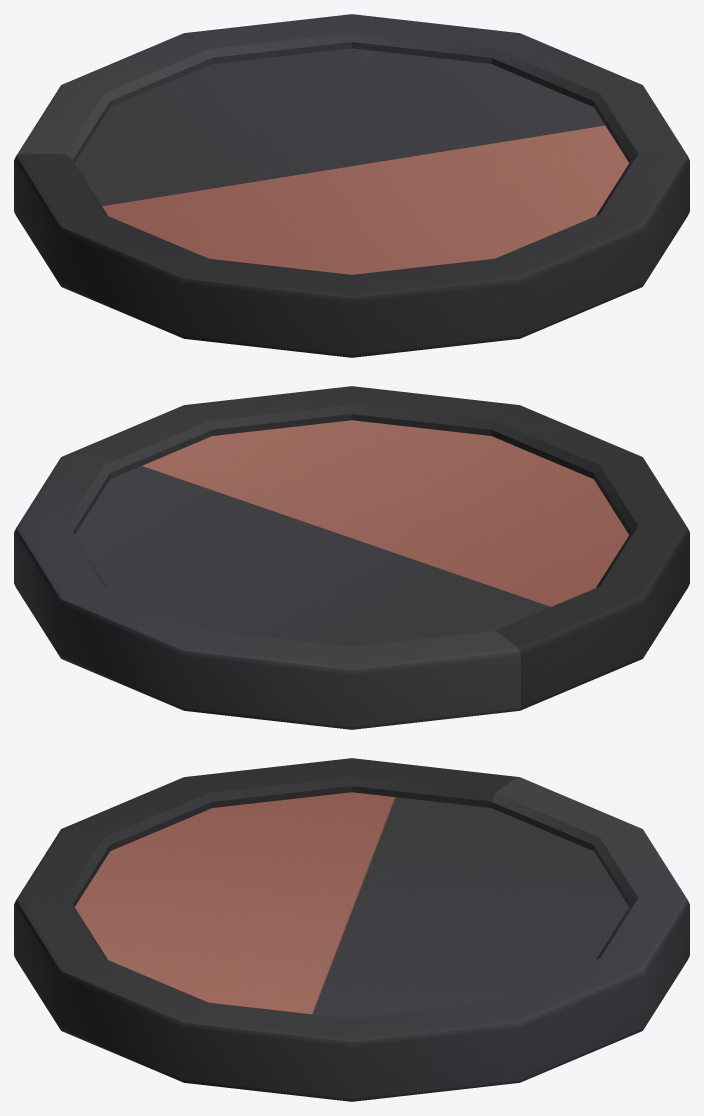
The model's file is Coin_Gold.fbx.
The picture shows the model from 3 angles, top to bottom: view 1: azimuth 30°, elevation 25°; view 2: azimuth 150°, elevation 25°; view 3: azimuth 270°, elevation 25°; orthographic projection.
Visible parts, largest first — view 1: Coin_Gold; view 2: Coin_Gold; view 3: Coin_Gold.
Boxes of the visible parts, left/top/right/bottom form: Coin_Gold: left=14, top=14, right=689, bottom=357; Coin_Gold: left=14, top=386, right=689, bottom=729; Coin_Gold: left=14, top=758, right=689, bottom=1101.
Size of the model in its own units: 37.45 by 3.93 by 37.45.
